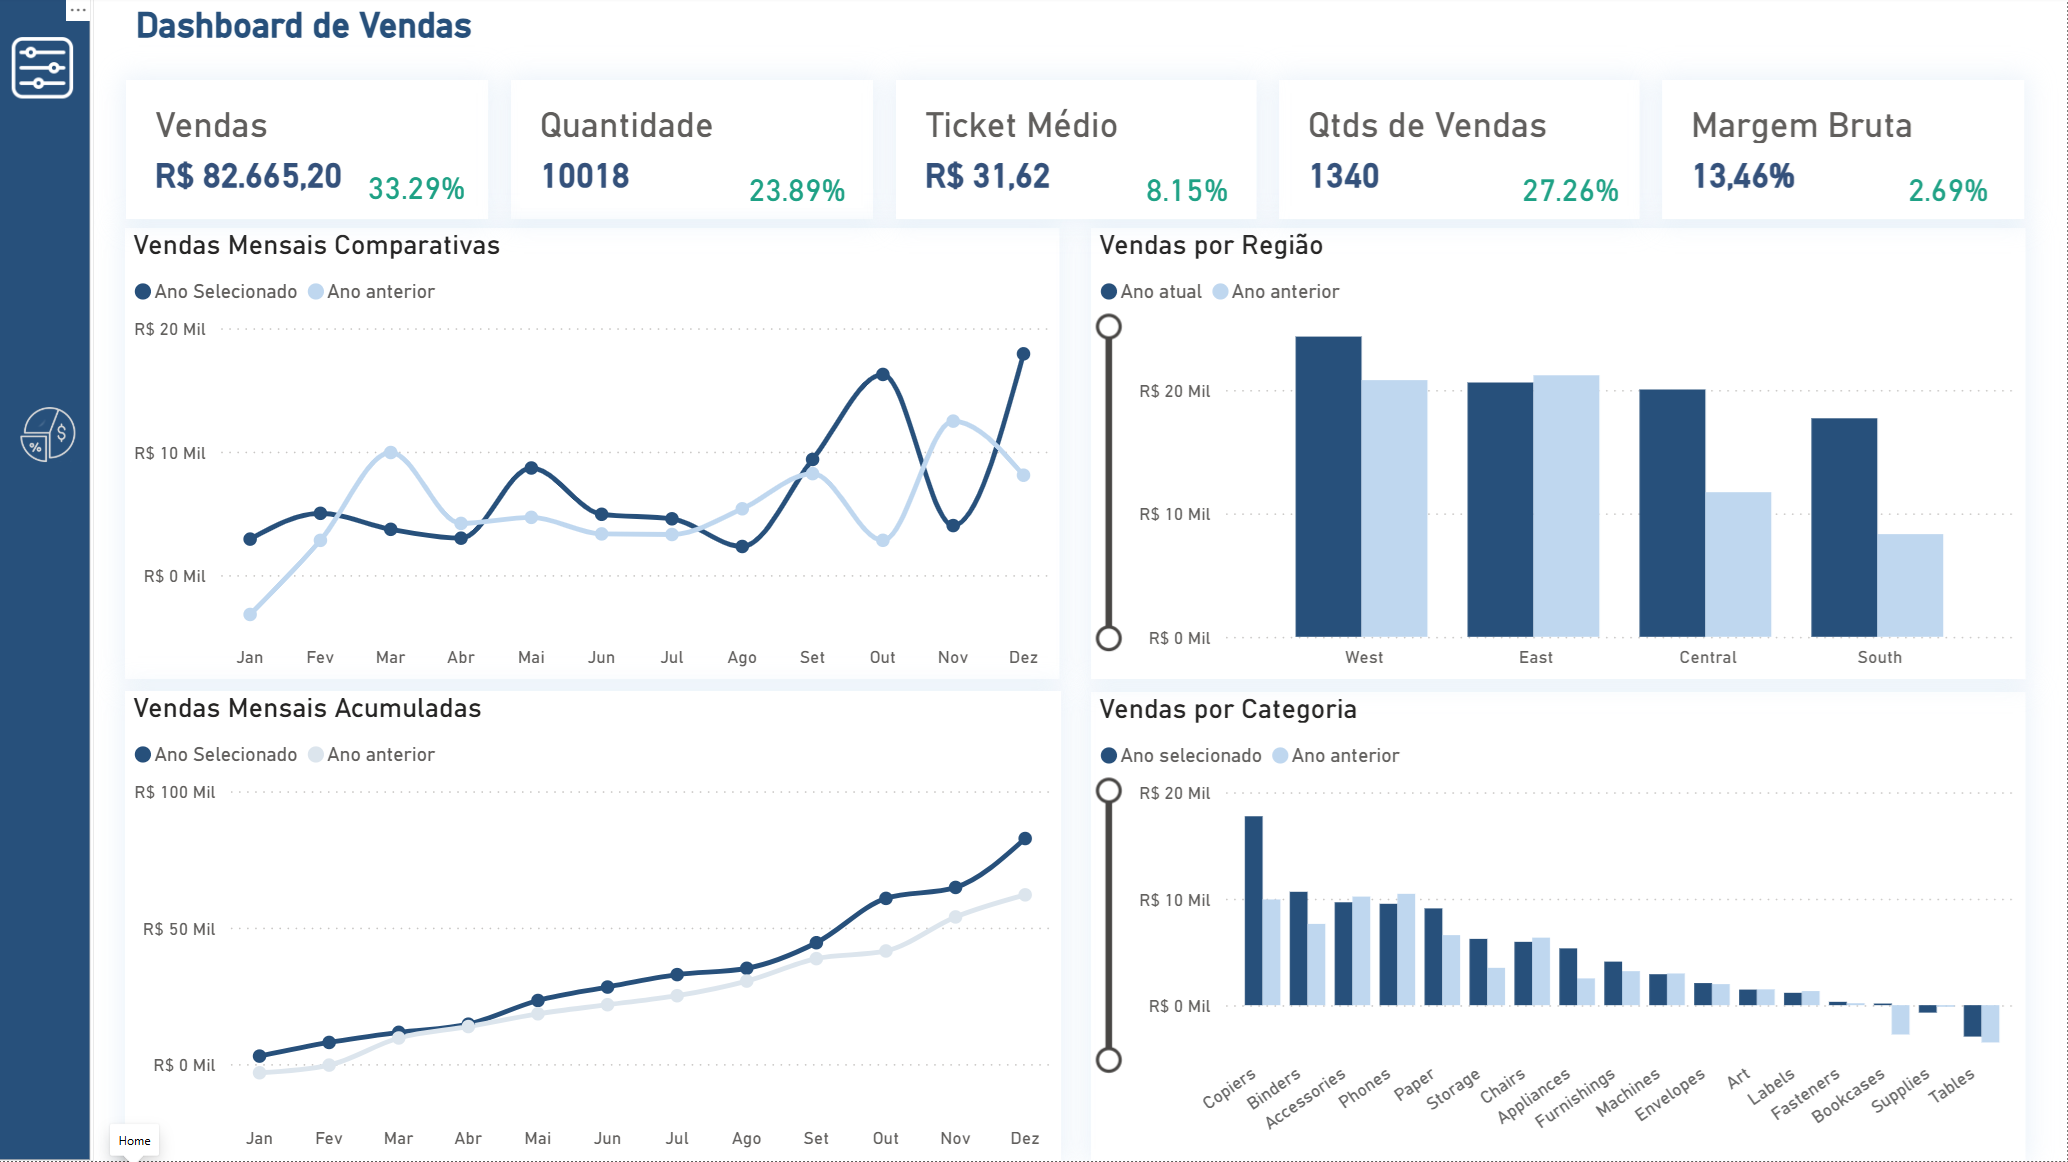

Layout of this report page (visuals, bound fields, positions):
{"tool":"powerbi","page":{"name":"Home","canvas":[1280,720],"ordinal":0},"visuals":[{"type":"shape","box":[0,0,58.2,719.9],"z":0,"group":"g1"},{"type":"lineChart","title":"Vendas Mensais Comparativas","fields":{"Category":["dim_tempo.MÊS RESUMIDO"],"Y":["Medidas.03 Vendas Esse Ano","Medidas.02 VENDAS-  Ano Anterior"]},"box":[79,142.7,578.2,279.2],"z":0},{"type":"clusteredColumnChart","title":"Vendas por Categoria","fields":{"Category":["dim_produto.Category","dim_produto.Sub_Categoria","dim_produto.Nome_Produto"],"Y":["Medidas.03 Vendas Esse Ano","Medidas.02 VENDAS-  Ano Anterior"]},"box":[676.9,430,578.2,290],"z":1000},{"type":"image","box":[3.3,20,50,47.8],"z":2000,"group":"g1"},{"type":"lineChart","title":"Vendas Mensais Acumuladas","fields":{"Category":["dim_tempo.MÊS RESUMIDO"],"Y":["Medidas.04 ACUMULADO","Medidas.05 ACUMULADO 2023"]},"box":[78.9,429.2,579,290.8],"z":2000},{"type":"cardVisual","fields":{"Data":["Medidas.01 SOMA DAS VENDAS"]},"box":[80,51.4,224.4,85.6],"z":3000},{"type":"image","box":[2.2,248.9,57.8,44.4],"z":3000,"group":"g1"},{"type":"advanceCardE03760C5AB684758B56AA29F9E6C257B","fields":{"mainMeasure":["Medidas.17 Variação das Vendas"]},"box":[214.4,101.1,90,35.6],"z":4000},{"type":"clusteredColumnChart","title":"Vendas por Região","fields":{"Category":["dim_cep.Região"],"Y":["Medidas.03 Vendas Esse Ano","Medidas.02 VENDAS-  Ano Anterior"]},"box":[676.9,142.7,578.2,279.2],"z":5000},{"type":"cardVisual","fields":{"Data":["Medidas.07 QUANTIDADE"]},"box":[318.1,51.4,224.4,85.6],"z":6000},{"type":"advanceCardE03760C5AB684758B56AA29F9E6C257B","fields":{"mainMeasure":["Medidas.09 Variação QUANTIDADE"]},"box":[447.8,102.2,94.4,34.4],"z":7000},{"type":"cardVisual","fields":{"Data":["Medidas.21 Quantidade de Vendas esse ano"]},"box":[793.1,51.4,223.3,85.6],"z":8000},{"type":"advanceCardE03760C5AB684758B56AA29F9E6C257B","fields":{"mainMeasure":["Medidas.12 Variação Ticket Médio"]},"box":[701.1,102.2,77.8,34.4],"z":9000},{"type":"cardVisual","fields":{"Data":["Medidas.18 Margem Bruta"]},"box":[1030,51.4,224.4,85.6],"z":10000},{"type":"textbox","box":[81,0,447.8,40.2],"z":11000},{"type":"advanceCardE03760C5AB684758B56AA29F9E6C257B","fields":{"mainMeasure":["Medidas.20 Variação das Margem Bruta"]},"box":[1159.3,102.9,95.5,33.8],"z":12000},{"type":"group","id":"g1","title":"Grupo 2","box":[0,0,60,719.9],"z":14000},{"type":"cardVisual","fields":{"Data":["Medidas.11 Ticket Médio Esse Ano"]},"box":[556.1,51.4,223.3,85.6],"z":15000},{"type":"advanceCardE03760C5AB684758B56AA29F9E6C257B","fields":{"mainMeasure":["Medidas.12 Variação Ticket Médio"]},"box":[692.5,102,86.9,34.6],"z":16000},{"type":"advanceCardE03760C5AB684758B56AA29F9E6C257B","fields":{"mainMeasure":["Medidas.23 Variação das quantidade de tickets"]},"box":[931,102,85.1,34.6],"z":17000}]}

Visuals, with their boxes on the page's 1280x720 design canvas (x1, y1, x2, y2). These are canvas units, not pixel positions in the 2068x1162 screenshot, which may show the page scaled, cropped or inside an application window:
shape: Rect(0, 0, 58, 720)
"Vendas Mensais Comparativas" lineChart: Rect(79, 143, 657, 422)
"Vendas por Categoria" clusteredColumnChart: Rect(677, 430, 1255, 720)
image: Rect(3, 20, 53, 68)
"Vendas Mensais Acumuladas" lineChart: Rect(79, 429, 658, 720)
cardVisual - Medidas.01 SOMA DAS VENDAS: Rect(80, 51, 304, 137)
image: Rect(2, 249, 60, 293)
advanceCardE03760C5AB684758B56AA29F9E6C257B - Medidas.17 Variação das Vendas: Rect(214, 101, 304, 137)
"Vendas por Região" clusteredColumnChart: Rect(677, 143, 1255, 422)
cardVisual - Medidas.07 QUANTIDADE: Rect(318, 51, 542, 137)
advanceCardE03760C5AB684758B56AA29F9E6C257B - Medidas.09 Variação QUANTIDADE: Rect(448, 102, 542, 137)
cardVisual - Medidas.21 Quantidade de Vendas esse ano: Rect(793, 51, 1016, 137)
advanceCardE03760C5AB684758B56AA29F9E6C257B - Medidas.12 Variação Ticket Médio: Rect(701, 102, 779, 137)
cardVisual - Medidas.18 Margem Bruta: Rect(1030, 51, 1254, 137)
textbox: Rect(81, 0, 529, 40)
advanceCardE03760C5AB684758B56AA29F9E6C257B - Medidas.20 Variação das Margem Bruta: Rect(1159, 103, 1255, 137)
"Grupo 2" group: Rect(0, 0, 60, 720)
cardVisual - Medidas.11 Ticket Médio Esse Ano: Rect(556, 51, 779, 137)
advanceCardE03760C5AB684758B56AA29F9E6C257B - Medidas.12 Variação Ticket Médio: Rect(692, 102, 779, 137)
advanceCardE03760C5AB684758B56AA29F9E6C257B - Medidas.23 Variação das quantidade de tickets: Rect(931, 102, 1016, 137)
